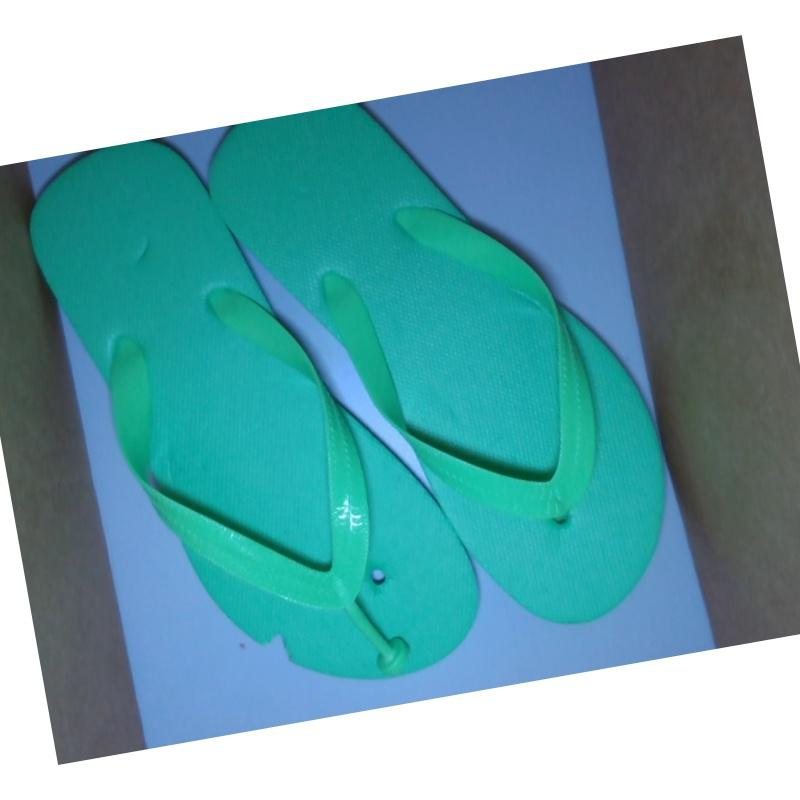chipped: (244, 617, 303, 674)
detached: (358, 617, 427, 681)
